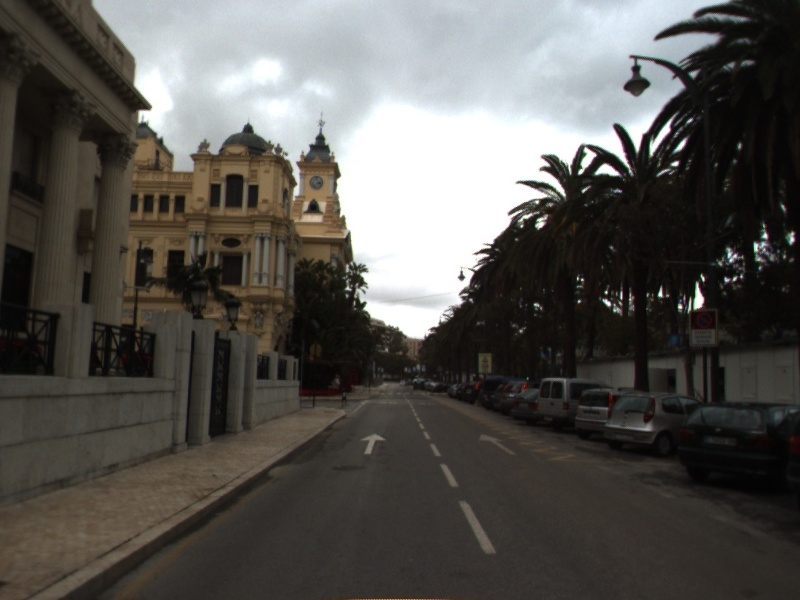STRAIGHT: (477, 432, 519, 457), (358, 431, 388, 456)
